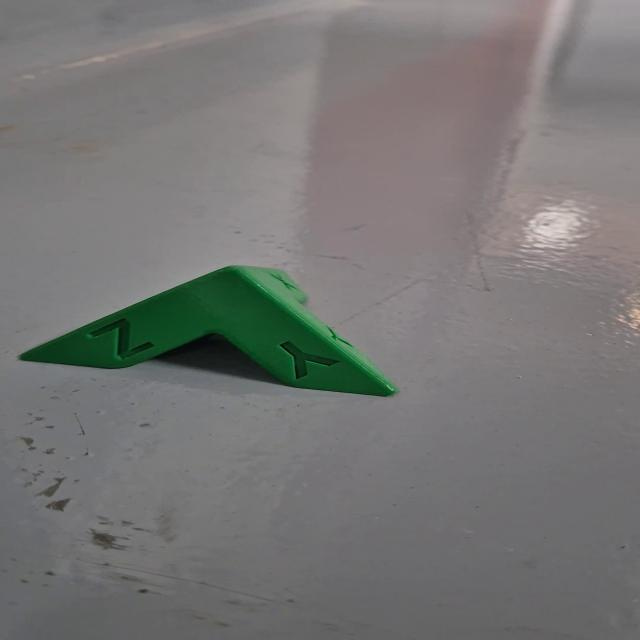objects: (12, 259, 407, 404)
